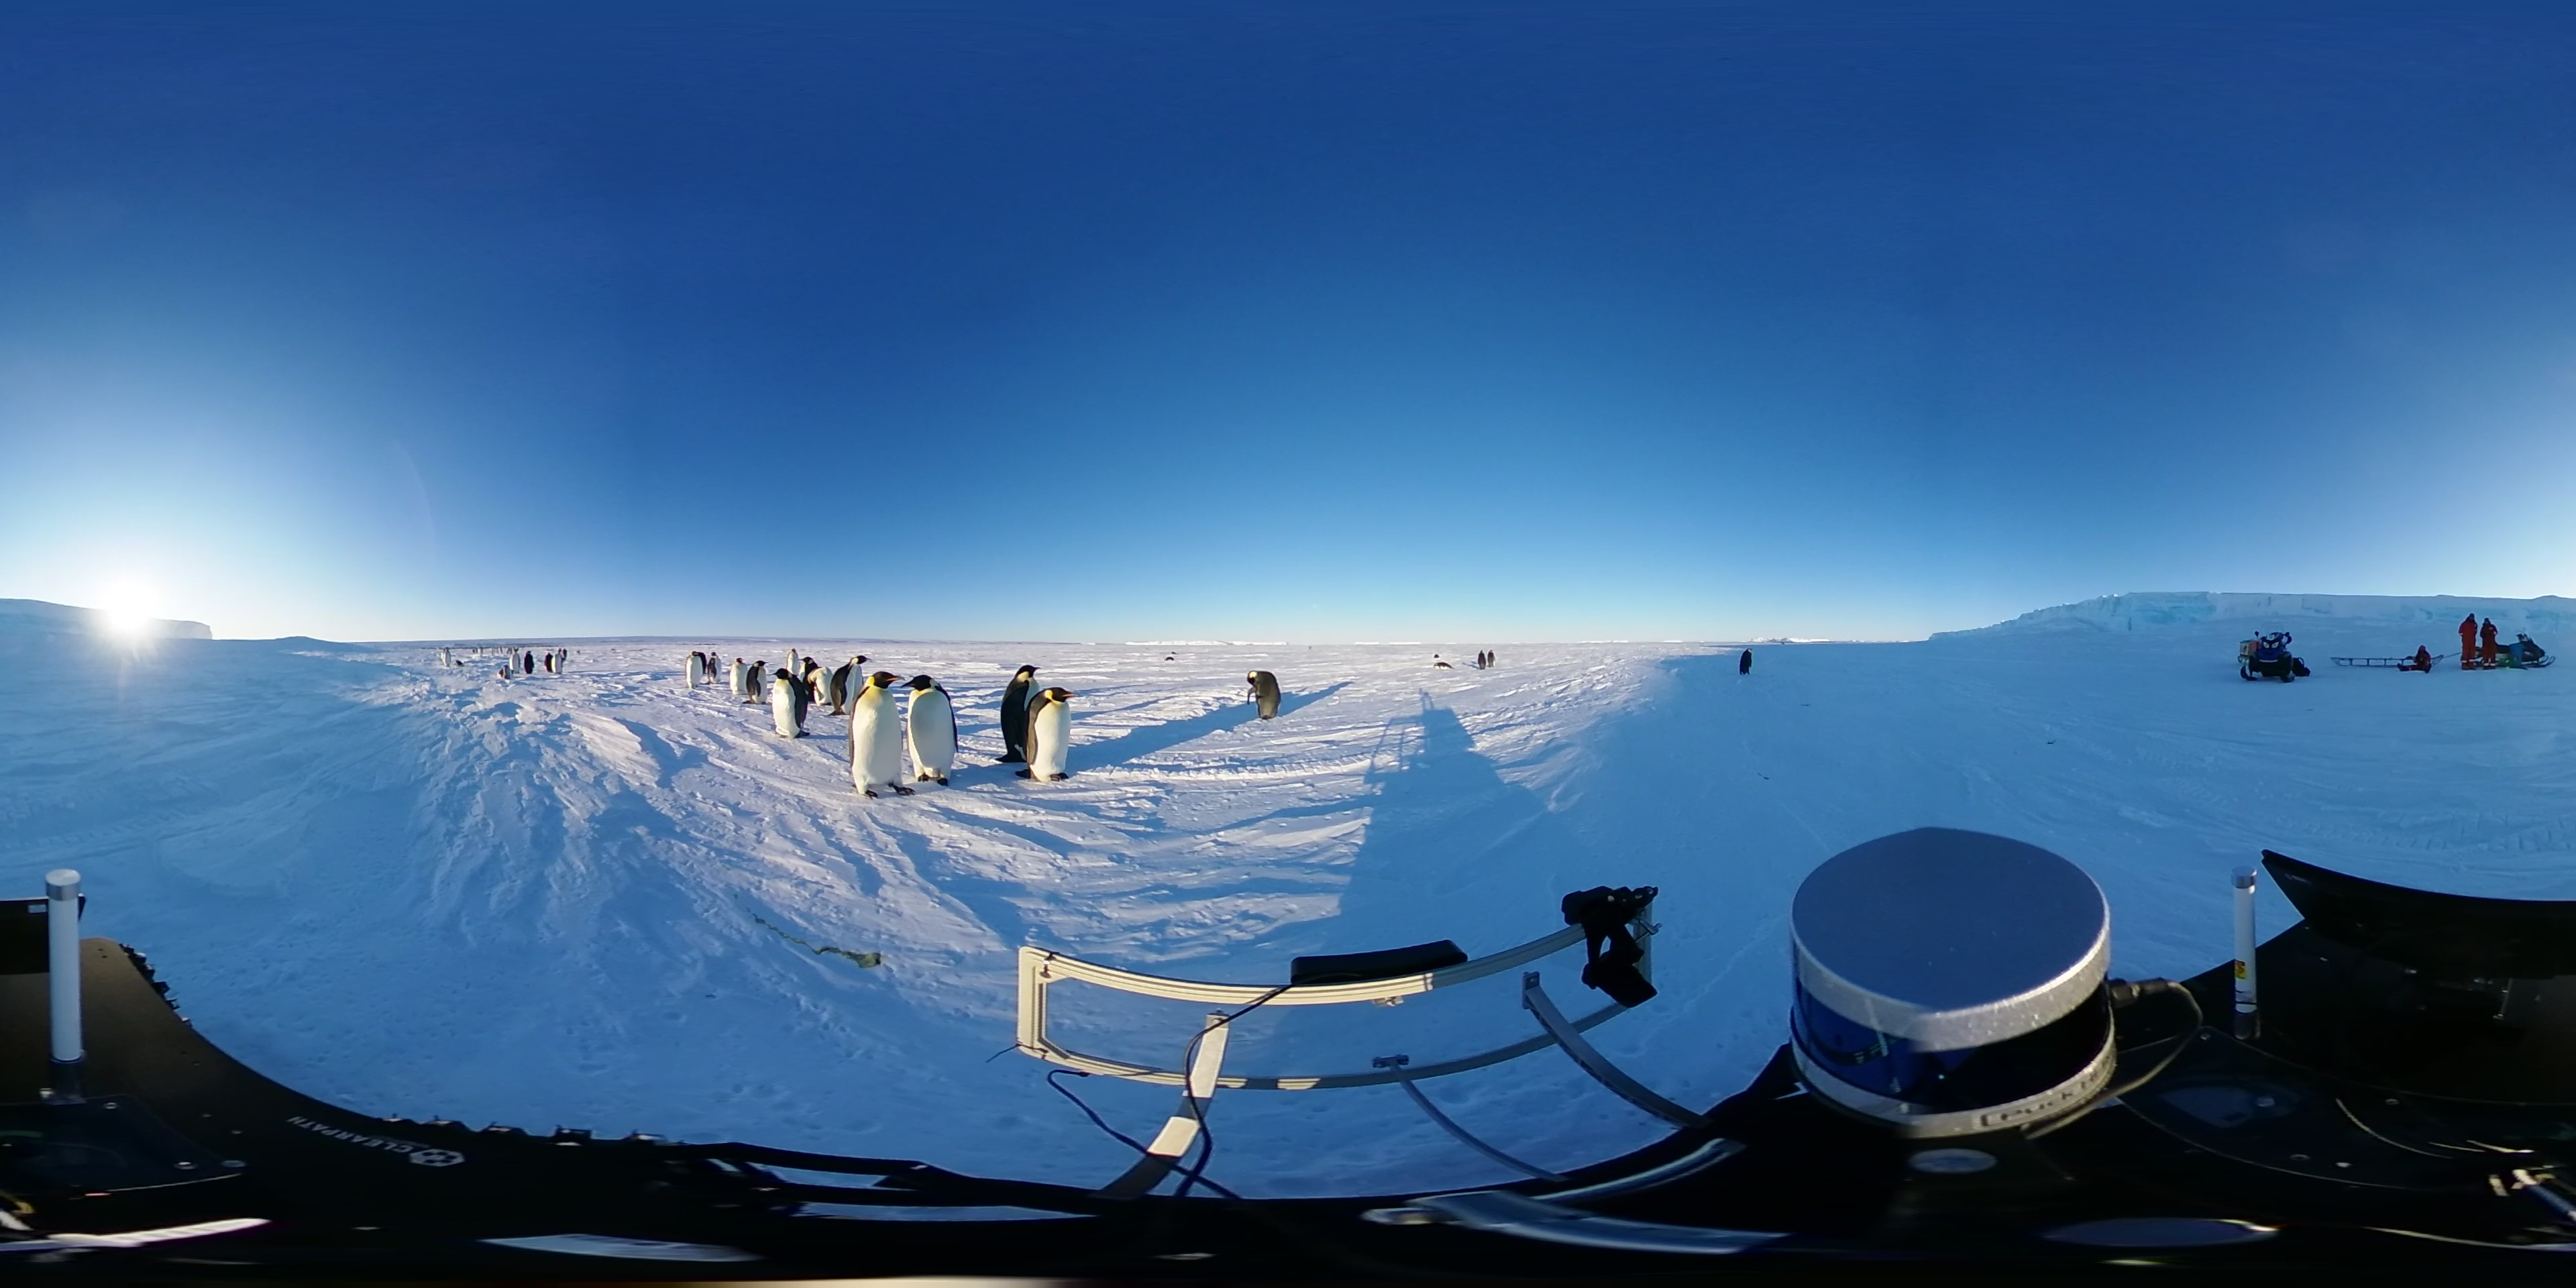adult_standing_penguin: (841, 670, 917, 803), (899, 672, 963, 790), (1023, 683, 1078, 785), (996, 659, 1046, 767), (821, 654, 874, 721), (769, 664, 812, 746), (1244, 669, 1285, 723), (744, 657, 772, 706), (728, 655, 751, 697), (683, 649, 705, 692), (1736, 647, 1755, 677), (1474, 649, 1488, 674)
adult_toboggan_penguin: (1431, 660, 1457, 674)
researcher: (2454, 609, 2479, 674), (2395, 641, 2436, 677), (2477, 614, 2502, 674)
